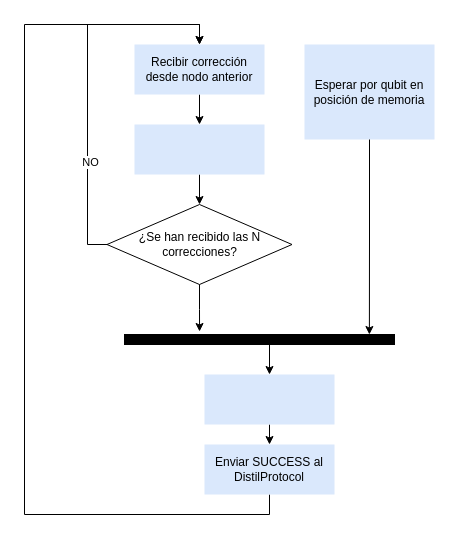
The diagram is 452 pixels wide and 540 high, and some of its shapes have lost their labels. Here are the shapes that lost their labels. From the top down, the centre of each, then its label:
the point at 199,149: Añadir corrección a la lista
the point at 269,399: Aplicar las correcciones y resetear contadores
